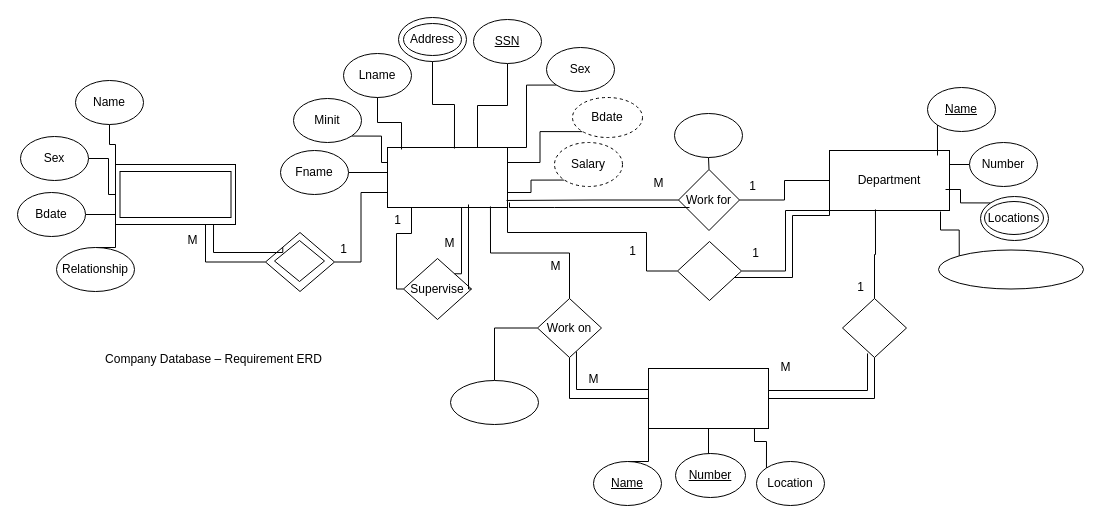
Image size: 1101x523. Some labels were removed from this diagram. Here are the shapes that lost their labels. From the top down, the centre of each, then its label:
At pixel 708 135: "StartDate".
At pixel 175 194: "Dependent".
At pixel 447 177: "Employee".
At pixel 299 261: "Have".
At pixel 709 270: "Manage".
At pixel 1011 269: "NumberOfEmployees".
At pixel 874 328: "Control".
At pixel 494 402: "Hours logged".
At pixel 708 398: "Project".
